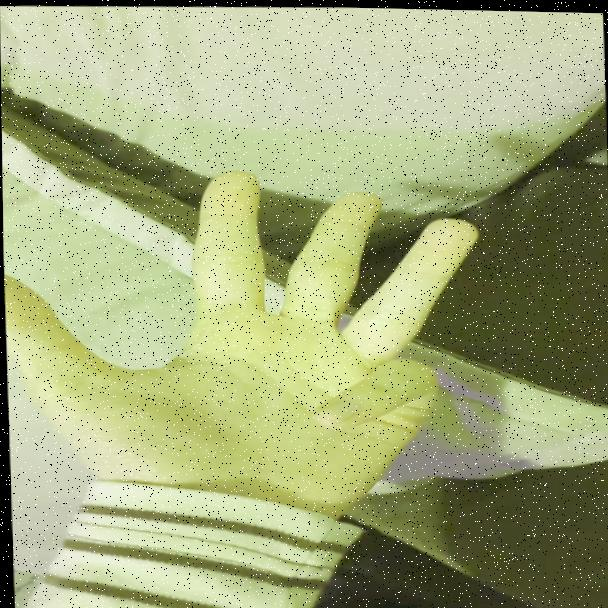five: (5, 157, 495, 518)
